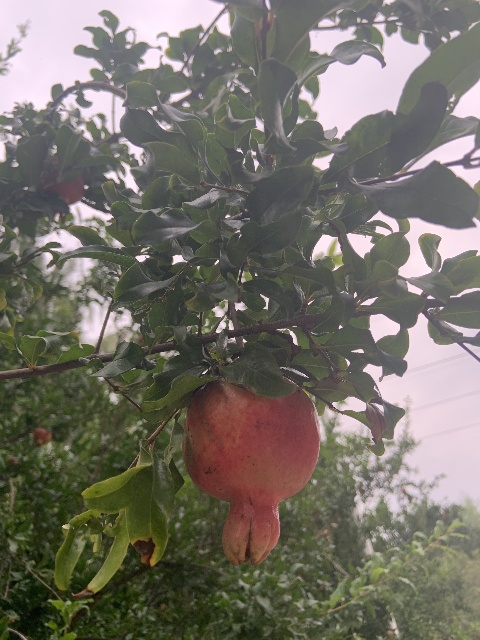ripe: (181, 379, 320, 566), (32, 427, 52, 447)
